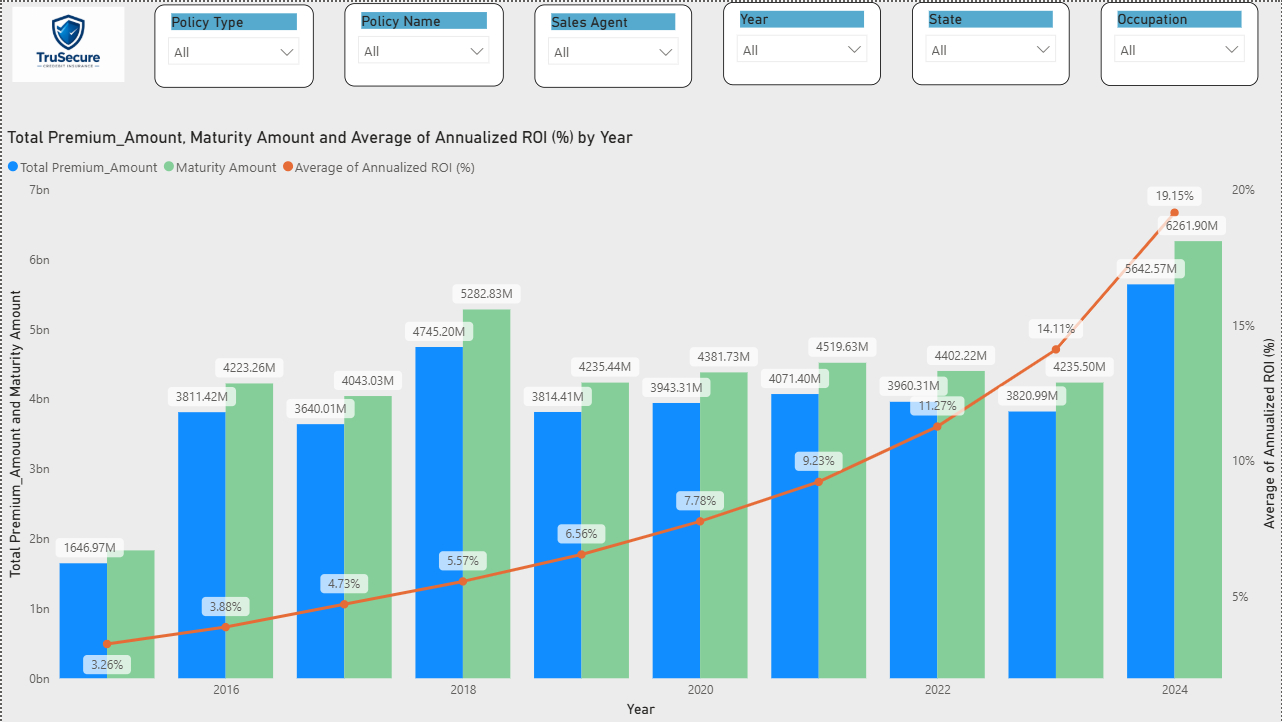

The page's visual inventory and layout, read from the dashboard file:
{"tool":"powerbi","page":{"name":"Investment Value  vs  Maturity Value","canvas":[1280,720],"ordinal":2},"visuals":[{"type":"slicer","fields":{"Values":["DM Policy_Type.Policy Type"]},"box":[152.9,2.4,159,83.2],"z":0},{"type":"slicer","fields":{"Values":["DM Policy_Protection_Plan.Policy Name"]},"box":[342.8,1.2,159,83.2],"z":1000},{"type":"slicer","fields":{"Values":["DM Insurance_Agent_Table.Sales Agent"]},"box":[532.7,2.4,157.7,83.2],"z":2000},{"type":"slicer","fields":{"Values":["FCT Insurance_Policy_Table.Start Date.Variation.Date Hierarchy.Year"]},"box":[721.4,0,157.7,83.2],"z":3000},{"type":"slicer","fields":{"Values":["DM Customer_Detail_Table.State"]},"box":[910.1,0,157.7,83.2],"z":4000},{"type":"slicer","fields":{"Values":["DM Customer_Detail_Table.Occupation"]},"box":[1098.8,0,157.5,83.8],"z":5000},{"type":"image","box":[0,0,132.5,85],"z":6000},{"type":"lineClusteredColumnComboChart","fields":{"Category":["FCT Insurance_Policy_Table.Start Date.Variation.Date Hierarchy.Year","FCT Insurance_Policy_Table.Start Date.Variation.Date Hierarchy.Quarter","FCT Insurance_Policy_Table.Start Date.Variation.Date Hierarchy.Month","FCT Insurance_Policy_Table.Start Date.Variation.Date Hierarchy.Day"],"Y":["FCT Insurance_Policy_Table.Total Premium_Amount","Sum(FCT Insurance_Policy_Table.Maturity Amount)"],"Y2":["Avg(FCT Insurance_Policy_Table.Annualized ROI (%))"]},"box":[0,125,1280,595],"z":7000}]}

Visuals, with their boxes in screenshot pixels (x1, y1, x2, y2), scaled from the page's 1280x720 canvas onto the 1282x722 screenshot:
slicer - DM Policy_Type.Policy Type: box(153, 2, 312, 86)
slicer - DM Policy_Protection_Plan.Policy Name: box(343, 1, 503, 85)
slicer - DM Insurance_Agent_Table.Sales Agent: box(534, 2, 691, 86)
slicer - FCT Insurance_Policy_Table.Start Date.Variation.Date Hierarchy.Year: box(723, 0, 880, 83)
slicer - DM Customer_Detail_Table.State: box(912, 0, 1069, 83)
slicer - DM Customer_Detail_Table.Occupation: box(1101, 0, 1258, 84)
image: box(0, 0, 133, 85)
lineClusteredColumnComboChart - FCT Insurance_Policy_Table.Start Date.Variation.Date Hierarchy.Year x FCT Insurance_Policy_Table.Start Date.Variation.Date Hierarchy.Quarter: box(0, 125, 1281, 721)
